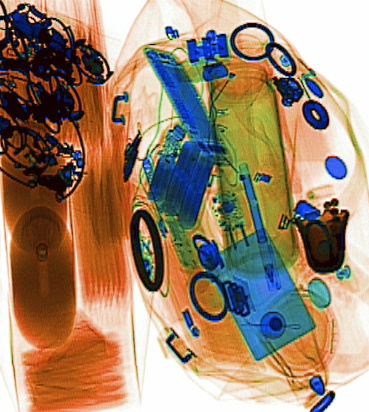powerbank: (146, 120, 218, 229)
